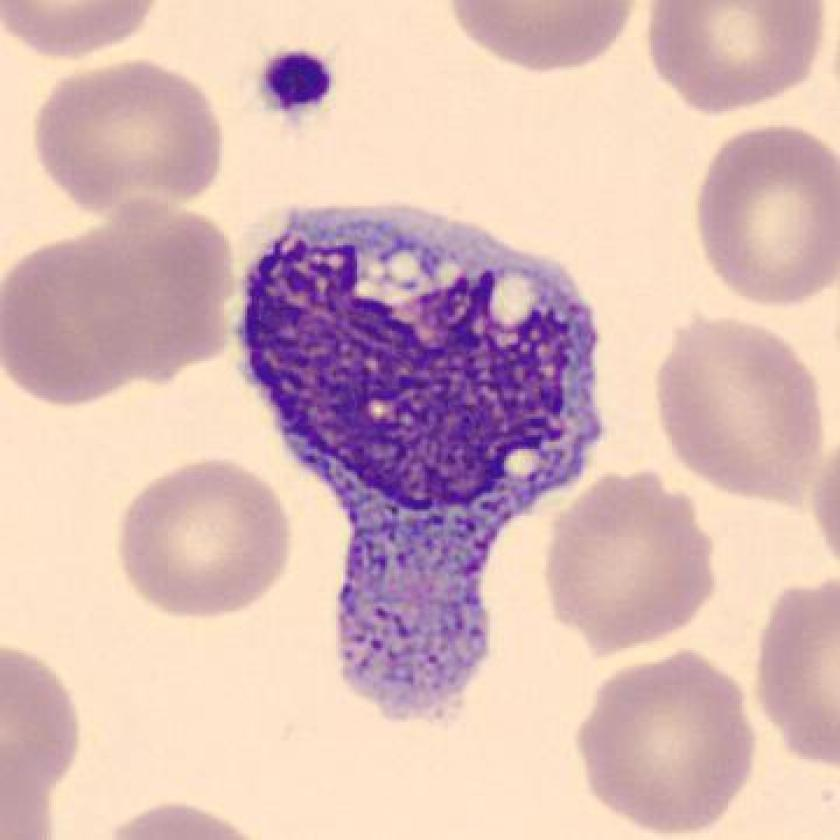monocyte: (223, 165, 631, 739)
